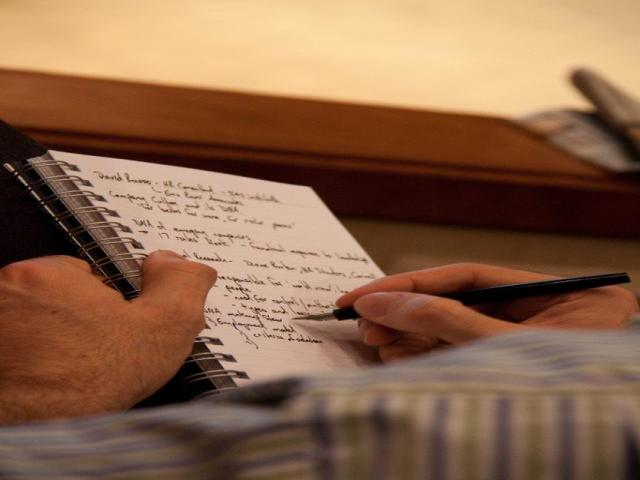PEN: (275, 265, 640, 335)
